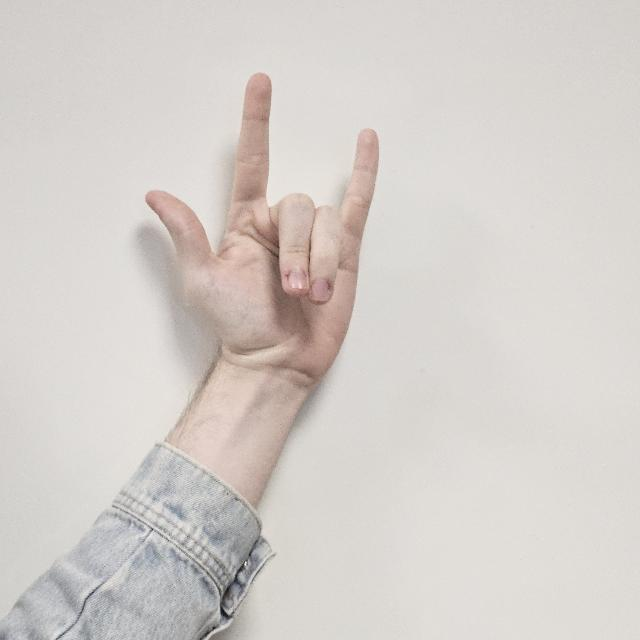Cima: (144, 72, 380, 406)
